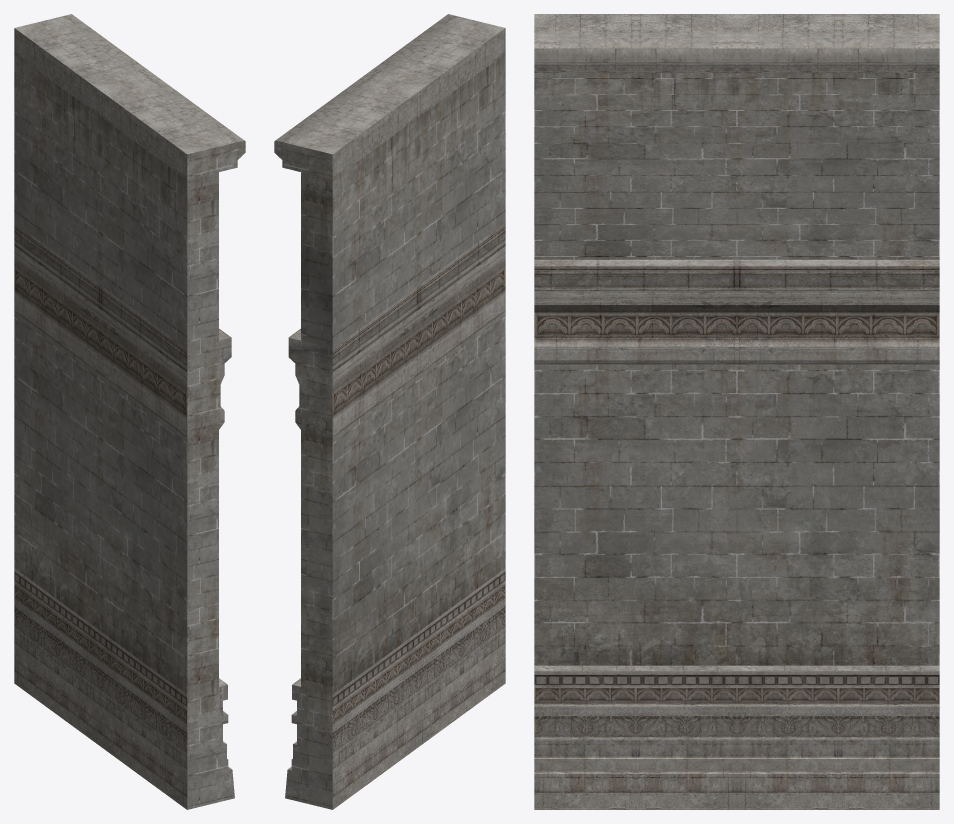
File: bg_lut_lucastle_castlewall01_sm_ysi.FBX
The picture shows the model from 3 angles, left to right: view 1: azimuth 30°, elevation 25°; view 2: azimuth 150°, elevation 25°; view 3: azimuth 270°, elevation 25°; orthographic projection. The views are drawn at different scales.
Visible parts, largest first — view 1: bg_lut_lucastle_castlewall01_sm_ysi; view 2: bg_lut_lucastle_castlewall01_sm_ysi; view 3: bg_lut_lucastle_castlewall01_sm_ysi.
Part boxes in pixels (left/top/right/bottom): bg_lut_lucastle_castlewall01_sm_ysi: left=14, top=14, right=245, bottom=809; bg_lut_lucastle_castlewall01_sm_ysi: left=274, top=14, right=505, bottom=809; bg_lut_lucastle_castlewall01_sm_ysi: left=534, top=14, right=939, bottom=809.
Size of the model in its own units: 99.88 by 1072 by 512.
